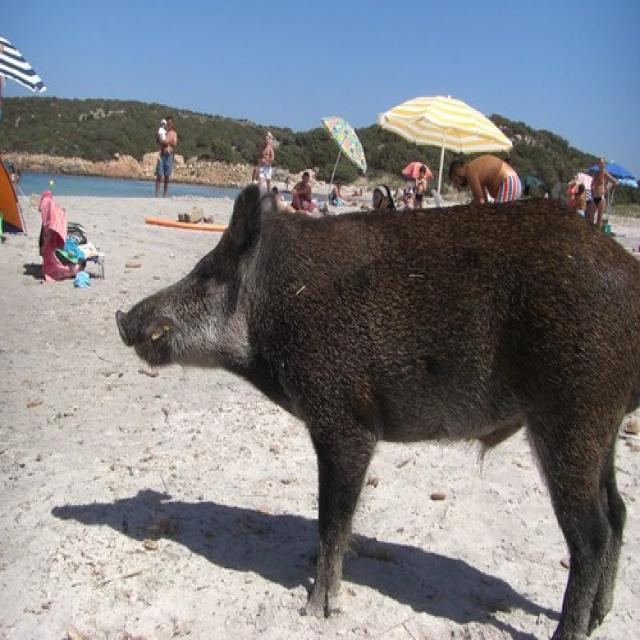boar: (93, 149, 640, 640)
